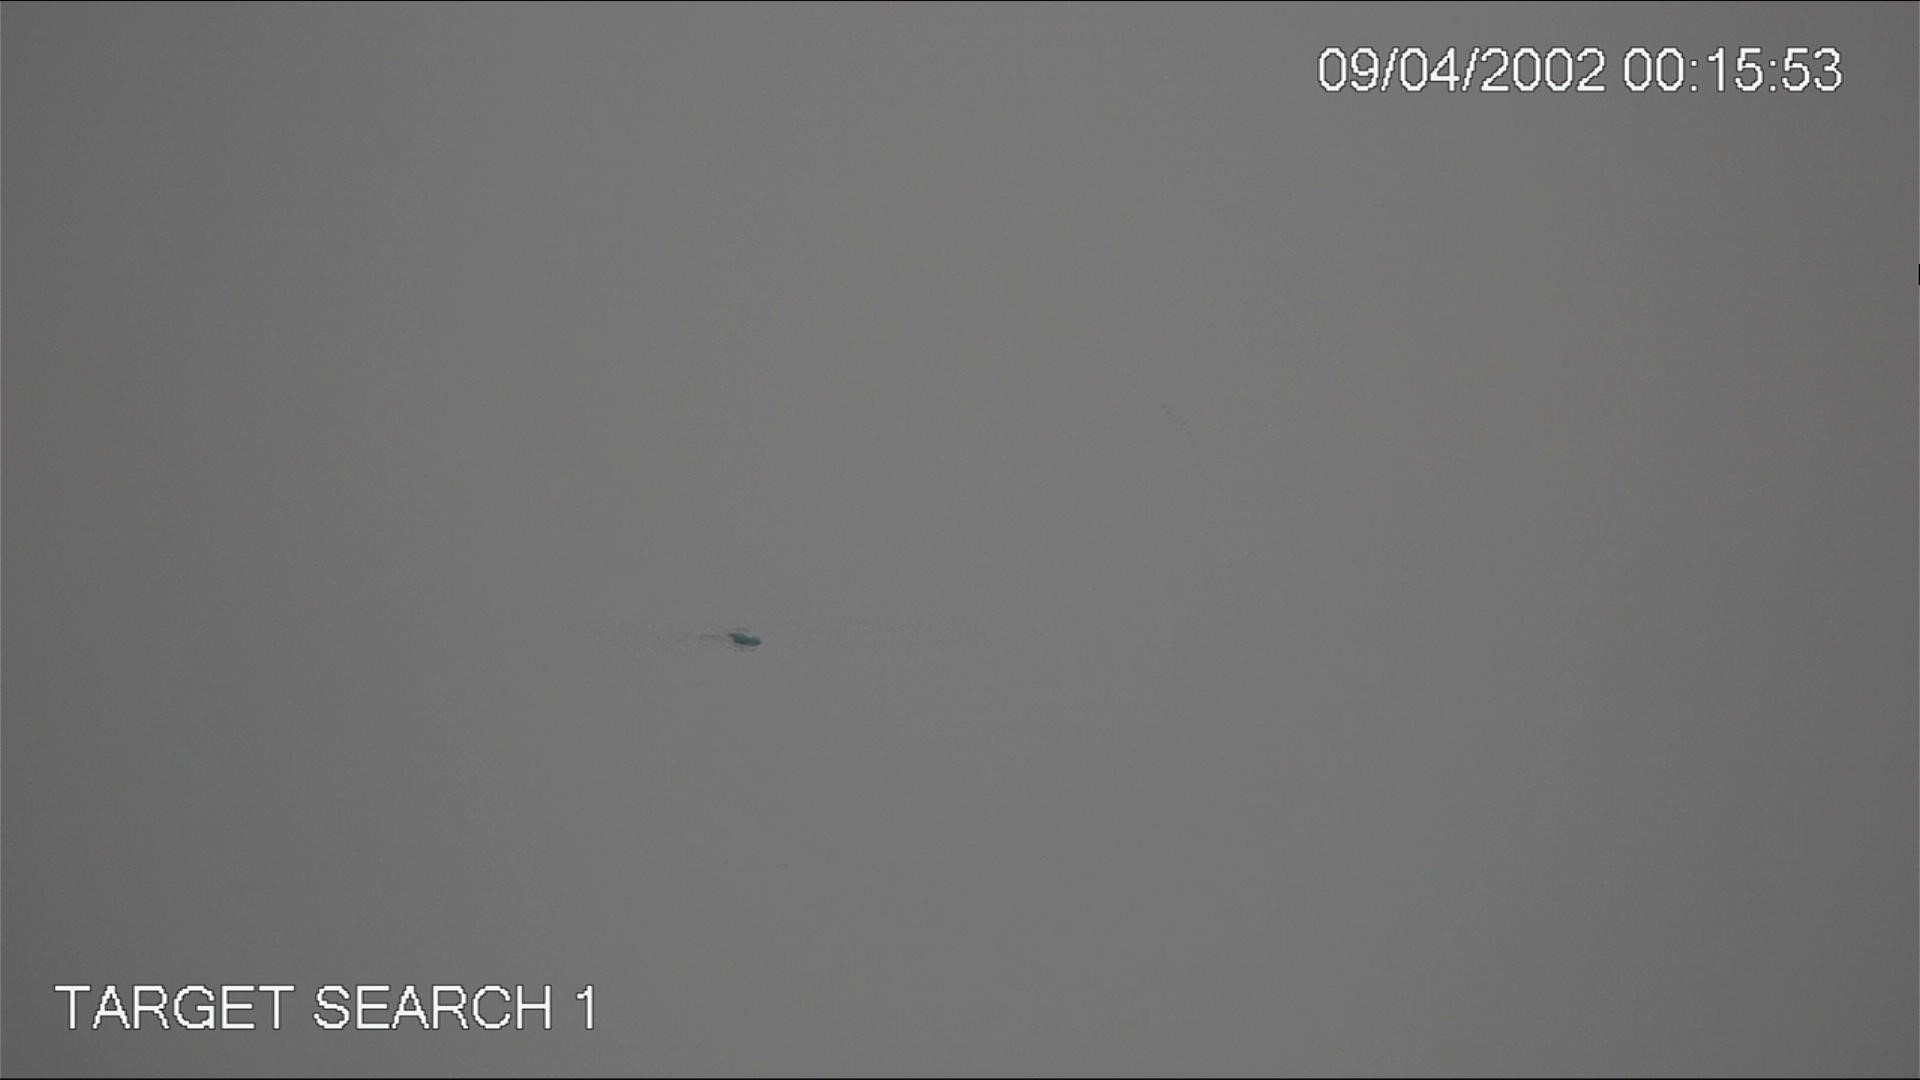SU_30: (707, 624, 754, 645)
